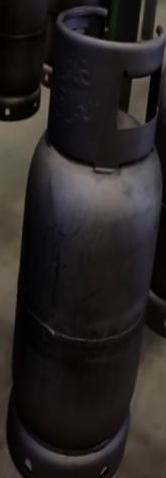cylinder: (1, 1, 166, 478)
